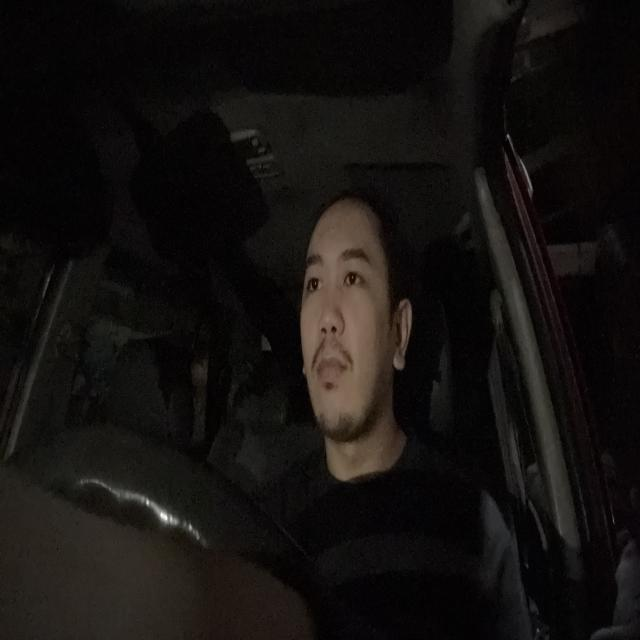open: (339, 245, 375, 303), (302, 246, 325, 306)
